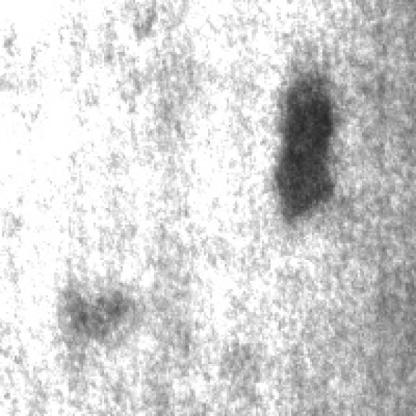patches: (275, 69, 339, 224)
